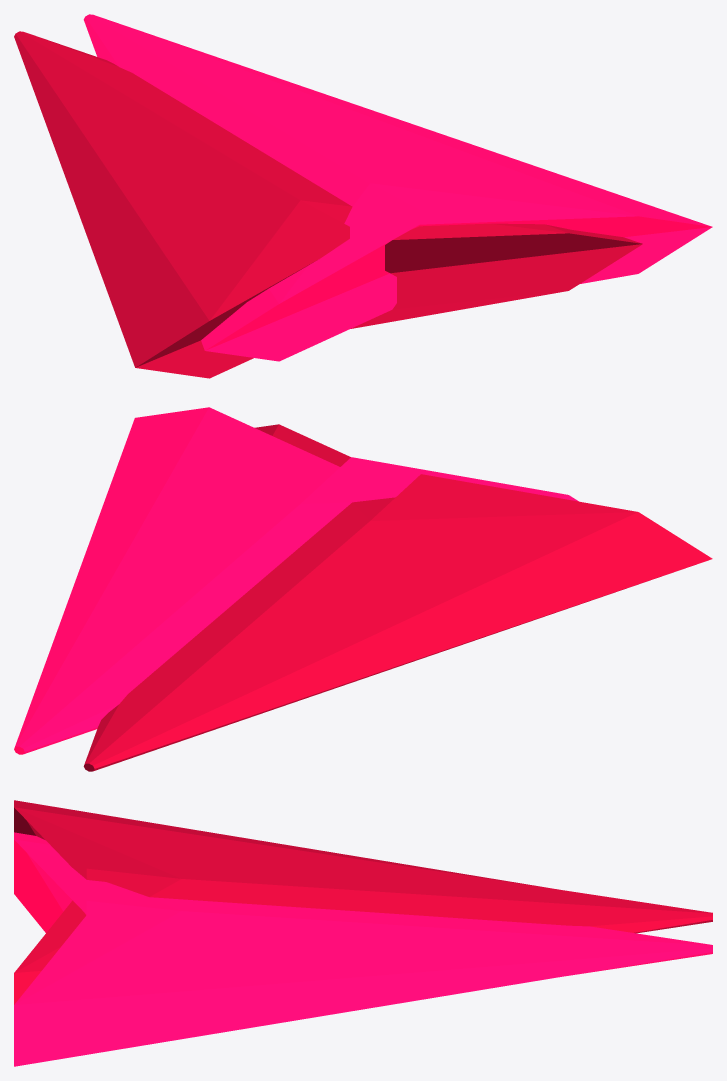
Rendered from HOOKSHOT_ARROW.fbx.
3 views of the same model, one above another, from view 1: azimuth 30°, elevation 25°; view 2: azimuth 150°, elevation 25°; view 3: azimuth 270°, elevation 25° (orthographic). The views are drawn at different scales.
Parts seen in each view (by area): view 1: arrow, Pulse; view 2: arrow, Pulse; view 3: Pulse, arrow.
Part boxes in pixels (left/top/right/bottom): arrow: left=14, top=31, right=642, bottom=378; Pulse: left=83, top=14, right=712, bottom=361; arrow: left=83, top=424, right=712, bottom=771; Pulse: left=14, top=407, right=578, bottom=754; Pulse: left=14, top=832, right=712, bottom=1066; arrow: left=14, top=800, right=712, bottom=1004.
Bounding box in the file's own units: 0.8291 × 0.1404 × 0.9186.
